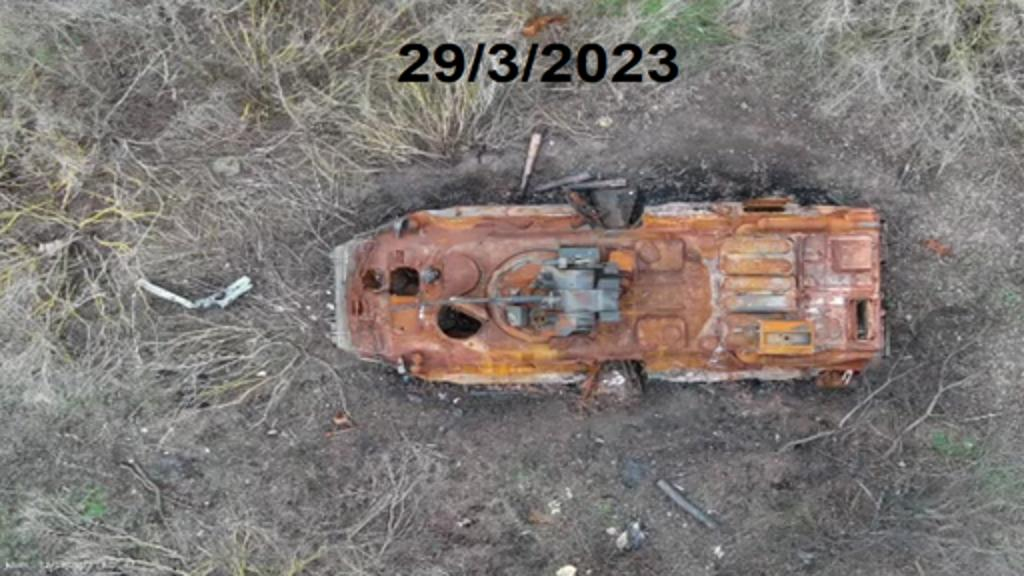APC-IFV: (294, 168, 896, 410)
